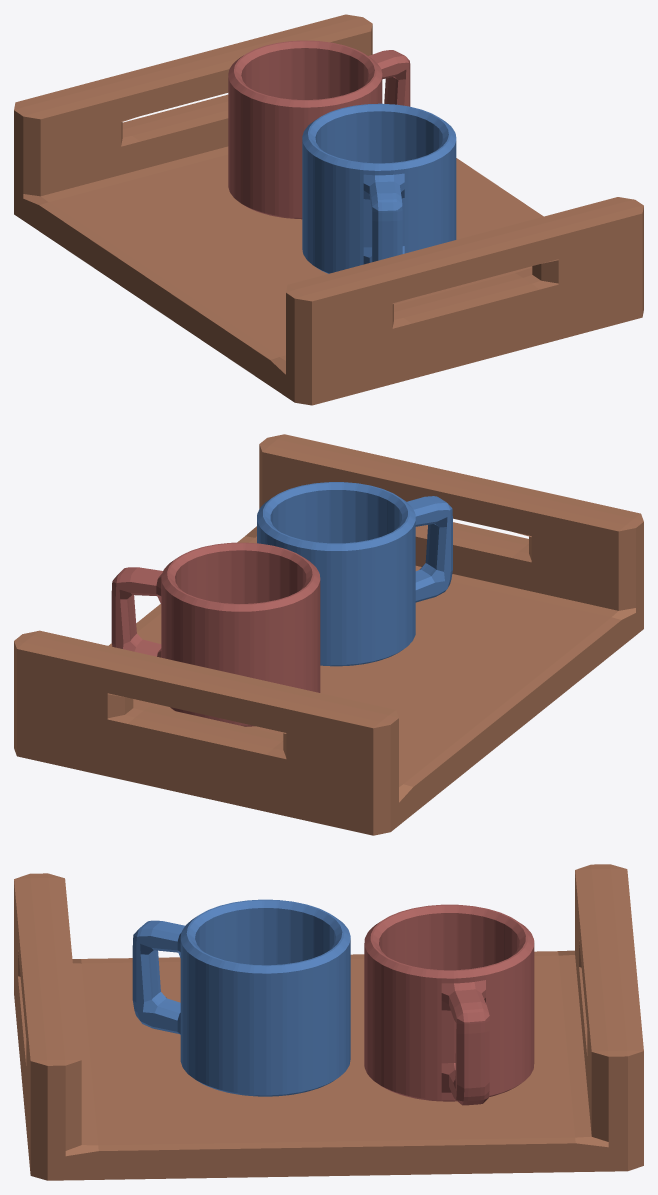
Rendered from Kitchen_Mugs.fbx.
3 views of the same model, one above another, from view 1: azimuth 30°, elevation 25°; view 2: azimuth 150°, elevation 25°; view 3: azimuth 270°, elevation 25° (orthographic). The views are drawn at different scales.
Visible parts, largest first — view 1: Kitchen_Mugs.001, Kitchen_Mugs.002, Kitchen_Mugs; view 2: Kitchen_Mugs.001, Kitchen_Mugs.002, Kitchen_Mugs; view 3: Kitchen_Mugs.001, Kitchen_Mugs.002, Kitchen_Mugs.
Part boxes in pixels (bbox=[...]): Kitchen_Mugs.001: bbox=[14, 14, 643, 405]; Kitchen_Mugs.002: bbox=[302, 103, 456, 273]; Kitchen_Mugs: bbox=[228, 40, 410, 219]; Kitchen_Mugs.001: bbox=[14, 434, 643, 835]; Kitchen_Mugs.002: bbox=[257, 482, 452, 666]; Kitchen_Mugs: bbox=[111, 542, 320, 726]; Kitchen_Mugs.001: bbox=[14, 864, 643, 1180]; Kitchen_Mugs.002: bbox=[132, 899, 350, 1096]; Kitchen_Mugs: bbox=[364, 904, 534, 1105].
Size of the model in its own units: 67.04 by 18.7 by 50.79.
